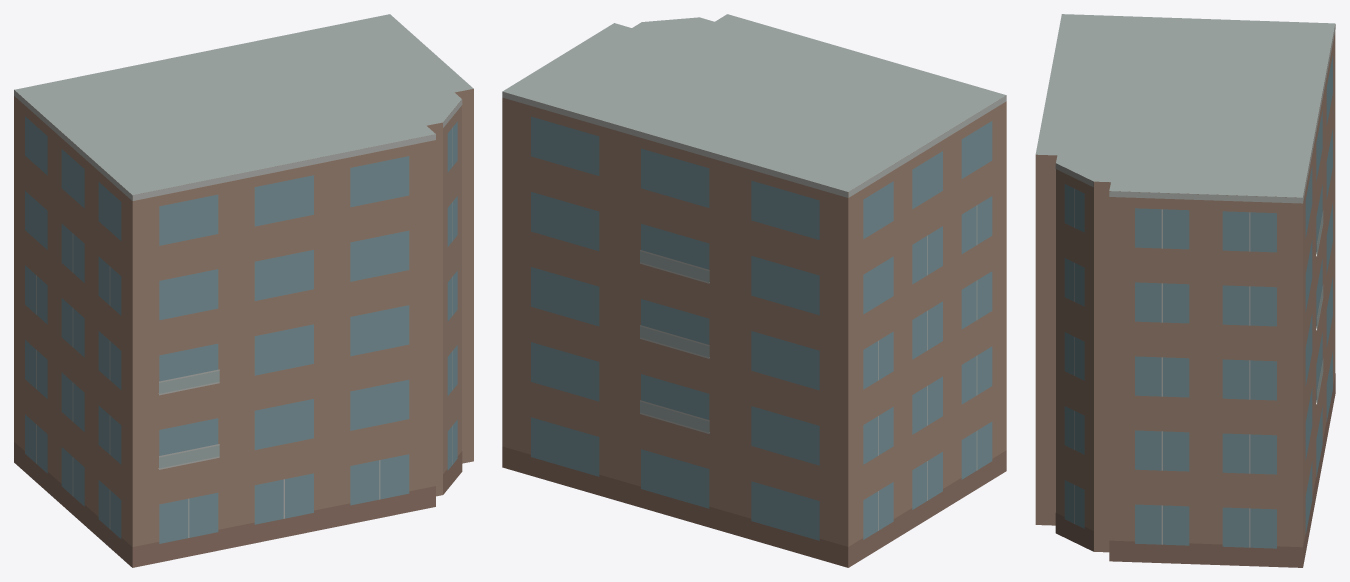
The model's file is survey-upis-32753464.glb.
3 views of the same model, side by side, from view 1: azimuth 30°, elevation 25°; view 2: azimuth 150°, elevation 25°; view 3: azimuth 270°, elevation 25° (orthographic).
Parts seen in each view (by area): view 1: survey-upis-32753464.tmp; view 2: survey-upis-32753464.tmp; view 3: survey-upis-32753464.tmp.
Boxes of the visible parts, bbox=[...] form: survey-upis-32753464.tmp: bbox=[14, 14, 473, 567]; survey-upis-32753464.tmp: bbox=[502, 14, 1006, 567]; survey-upis-32753464.tmp: bbox=[1035, 14, 1335, 567].
Bounding box in the file's own units: 16.39 × 15.4 × 11.32.
